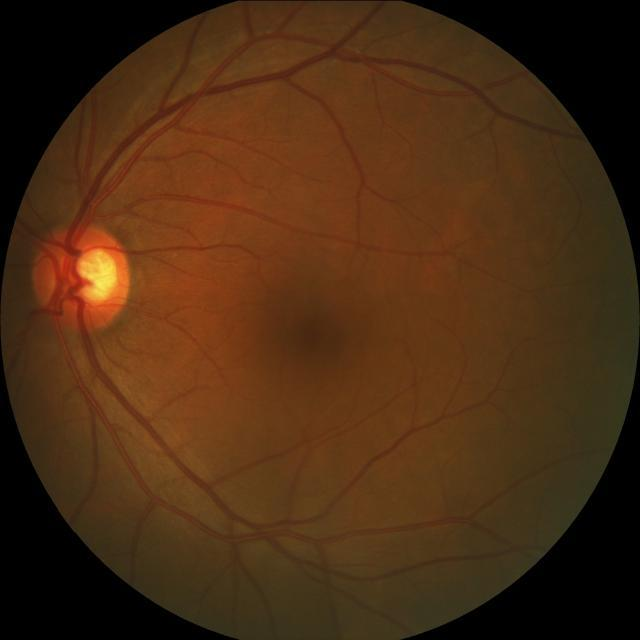OC: (62, 244, 120, 306)
OD: (31, 222, 136, 332)
